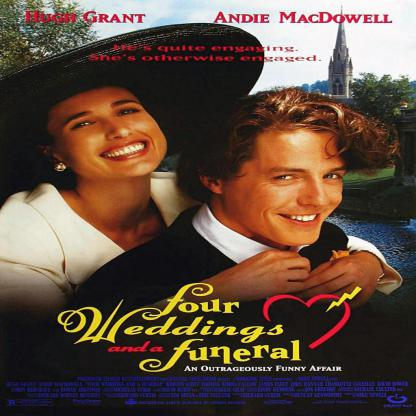face: (244, 133, 342, 244), (56, 90, 161, 175)
